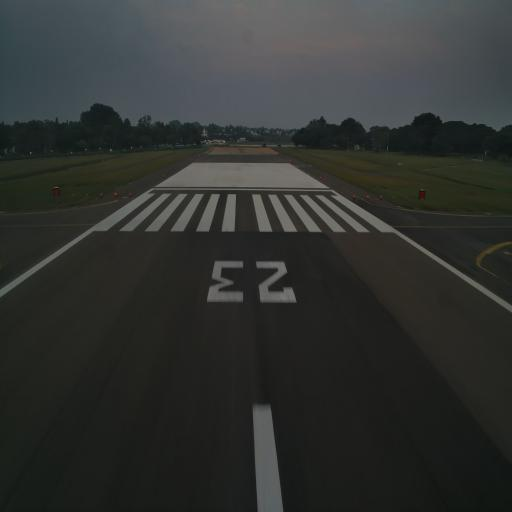on: (85, 190, 90, 200), (378, 192, 383, 201), (113, 189, 117, 198), (128, 190, 132, 199), (392, 192, 396, 200), (99, 191, 103, 198), (366, 193, 369, 199), (353, 195, 357, 199)
